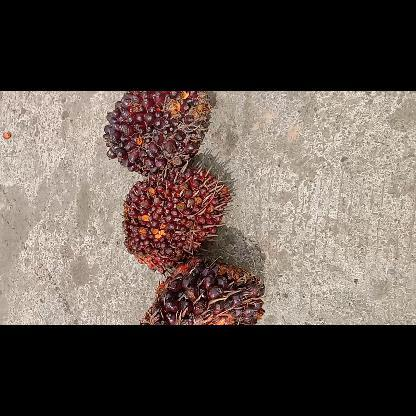Kurang masak: (122, 166, 232, 276), (104, 91, 210, 175)
TBS masak: (140, 257, 264, 323)
